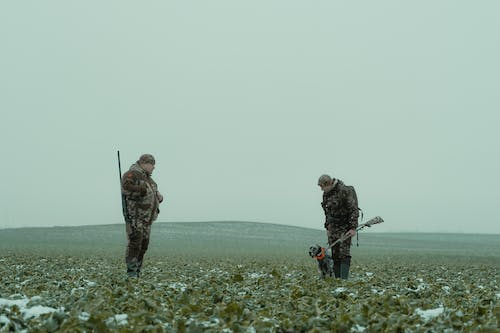gun: (316, 215, 385, 257), (116, 148, 135, 239)
